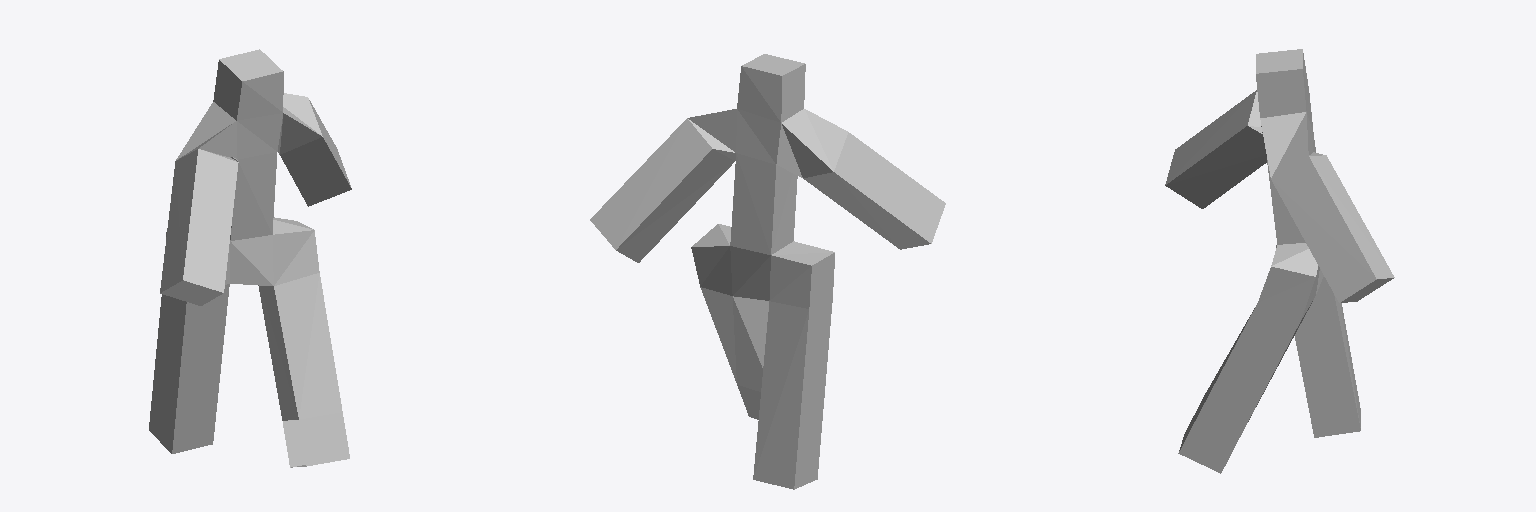
Rendered from cuboid_000014.obj.
3 views of the same model, side by side, from view 1: azimuth 30°, elevation 25°; view 2: azimuth 150°, elevation 25°; view 3: azimuth 270°, elevation 25° (orthographic).
Parts seen in each view (by area): view 1: Cube; view 2: Cube; view 3: Cube.
Part boxes in pixels (bbox=[...]): Cube: bbox=[149, 49, 351, 467]; Cube: bbox=[590, 54, 945, 489]; Cube: bbox=[1165, 49, 1394, 473].
Bounding box in the file's own units: 3.16 × 4.53 × 2.42.